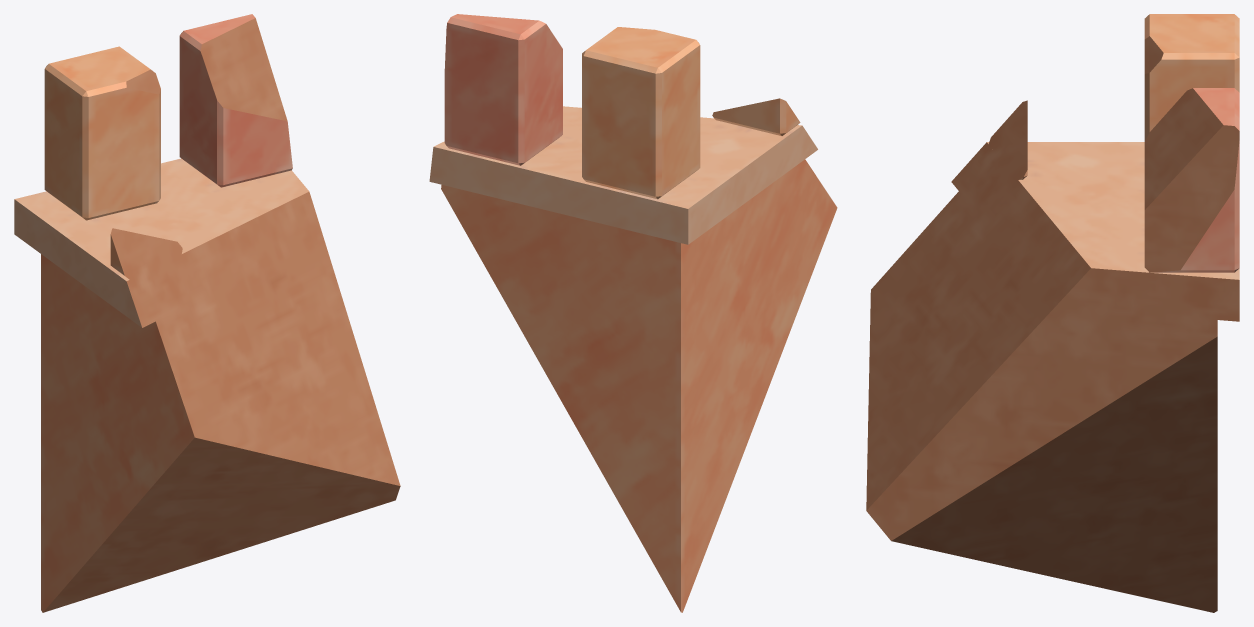
The model's file is townwall_tower_s07.fbx.
3 renders of one model, left to right at view 1: azimuth 30°, elevation 25°; view 2: azimuth 150°, elevation 25°; view 3: azimuth 270°, elevation 25°, orthographic. The views are drawn at different scales.
Visible parts, largest first — view 1: townwall_tower_s07; view 2: townwall_tower_s07; view 3: townwall_tower_s07.
Boxes of the visible parts, bbox=[...] form: townwall_tower_s07: bbox=[14, 14, 400, 612]; townwall_tower_s07: bbox=[429, 14, 837, 612]; townwall_tower_s07: bbox=[866, 14, 1239, 612].
Size of the model in its own units: 4.53 by 9.17 by 5.11.
